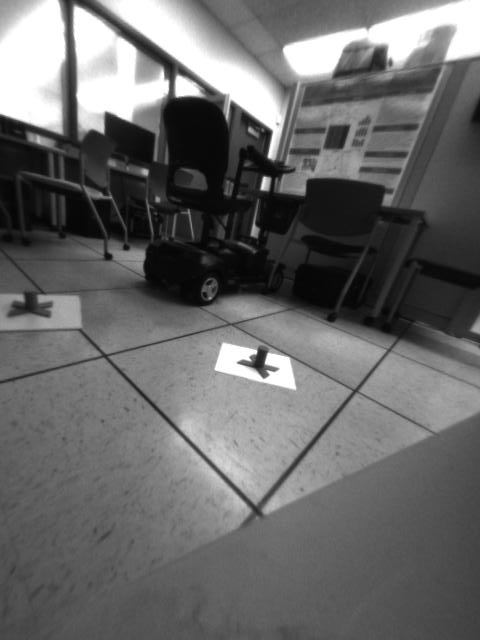X: (4, 287, 55, 320), (237, 345, 281, 379)
